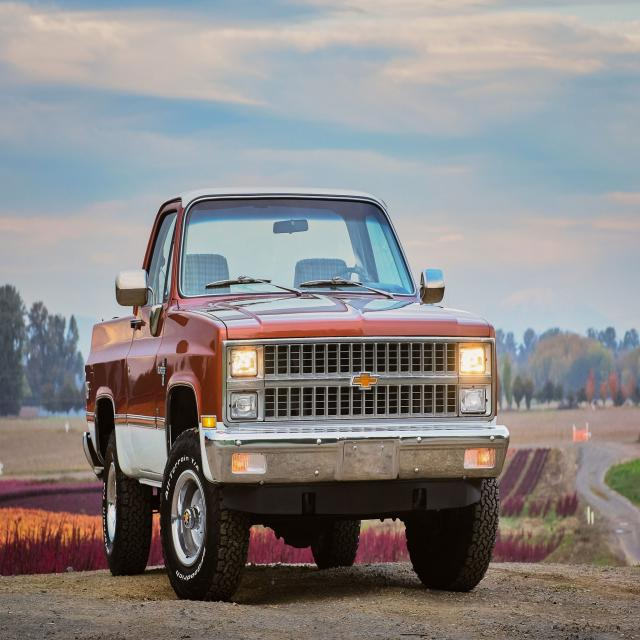truck: (65, 162, 540, 610)
